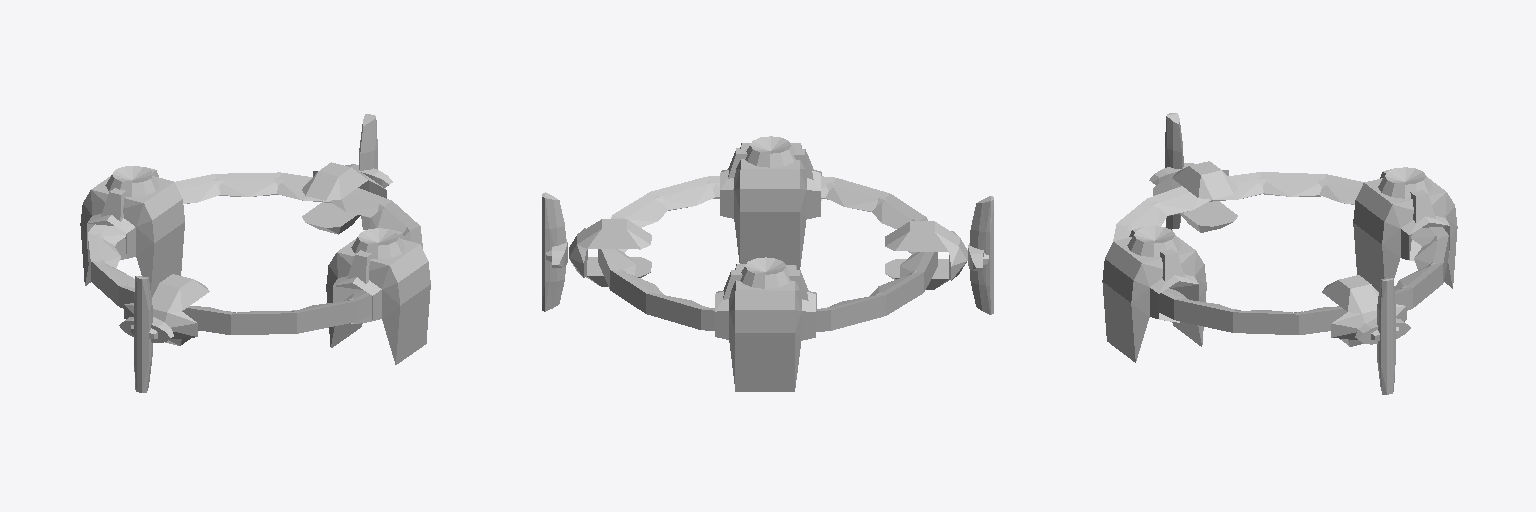
Rendered from stg300_MotGate_p3_16.obj.
3 views of the same model, side by side, from view 1: azimuth 30°, elevation 25°; view 2: azimuth 150°, elevation 25°; view 3: azimuth 270°, elevation 25° (orthographic).
Parts seen in each view (by area): view 1: polygon0, polygon6, polygon7, polygon4, polygon1, polygon3, polygon5; view 2: polygon0, polygon6, polygon7, polygon3, polygon5, polygon1, polygon4, polygon2; view 3: polygon0, polygon6, polygon7, polygon2, polygon1, polygon5, polygon3.
Boxes of the visible parts, box(x1,y1,x2,y2) form: polygon0: box(80, 167, 430, 364); polygon6: box(88, 172, 422, 334); polygon7: box(99, 180, 410, 312); polygon4: box(119, 276, 173, 392); polygon1: box(112, 162, 398, 287); polygon3: box(351, 118, 378, 229); polygon5: box(131, 278, 164, 390); polygon0: box(569, 143, 967, 391); polygon6: box(598, 176, 937, 331); polygon7: box(611, 183, 924, 309); polygon3: box(545, 198, 567, 311); polygon5: box(968, 201, 990, 314); polygon1: box(602, 136, 934, 274); polygon4: box(970, 196, 993, 314); polygon2: box(542, 192, 564, 311); polygon0: box(1102, 166, 1457, 362); polygon6: box(1113, 172, 1448, 334); polygon7: box(1125, 180, 1437, 312); polygon2: box(1355, 278, 1410, 394); polygon1: box(1134, 161, 1425, 288); polygon5: box(1163, 116, 1190, 229); polygon3: box(1365, 280, 1398, 390).
Bounding box in the file's own units: 217 × 69.79 × 190.